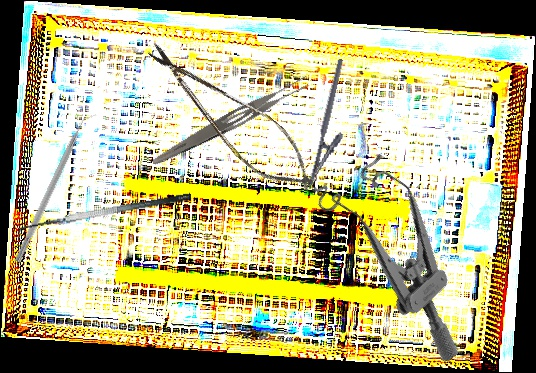Chopper: (13, 108, 100, 268)
Dressing Forceps: (149, 71, 313, 174)
Micro Scissor: (130, 27, 332, 209)
Needle Holder: (305, 58, 362, 194)
Spatula Surgical: (15, 191, 194, 243)
Speculum: (296, 138, 517, 365)
